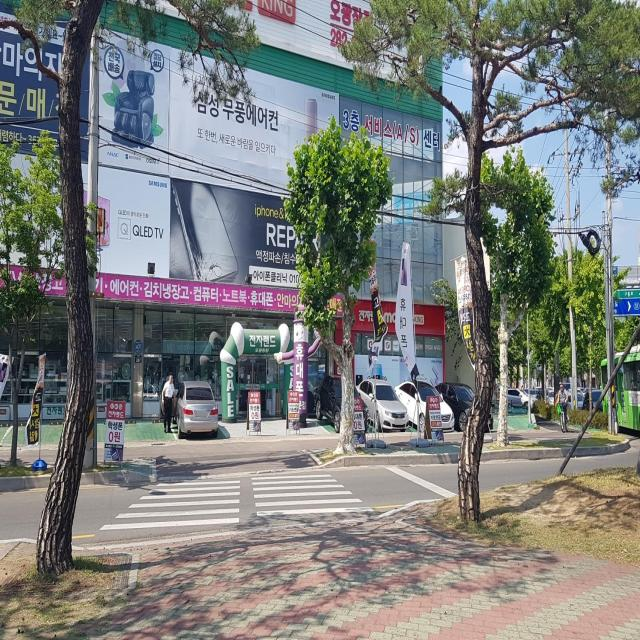횡단보도: (99, 473, 374, 533)
